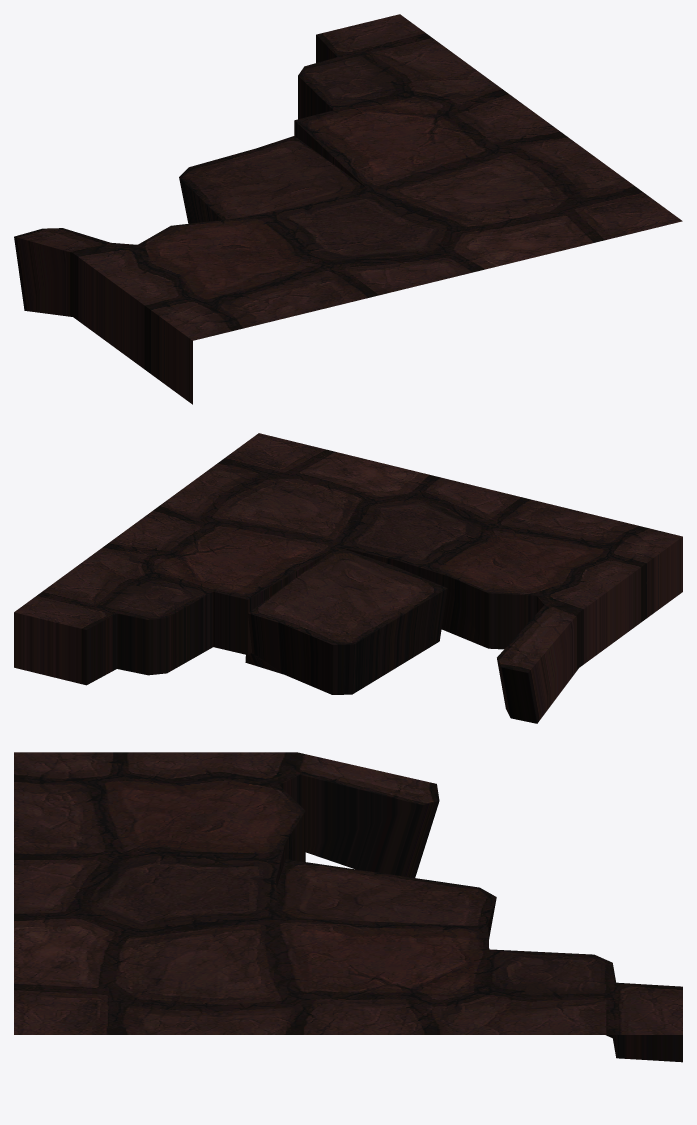
The model's file is lava_floor_brokendiagonal_04.fbx.
3 renders of one model, top to bottom at view 1: azimuth 30°, elevation 25°; view 2: azimuth 150°, elevation 25°; view 3: azimuth 270°, elevation 25°, orthographic. The views are drawn at different scales.
Visible parts, largest first — view 1: obj0.163; view 2: obj0.163; view 3: obj0.163.
Boxes of the visible parts, x1,y1,x2,y2 form: obj0.163: (14,14,682,404); obj0.163: (14,433,682,723); obj0.163: (14,752,682,1062).
Size of the model in its own units: 4 by 0.727 by 4.
